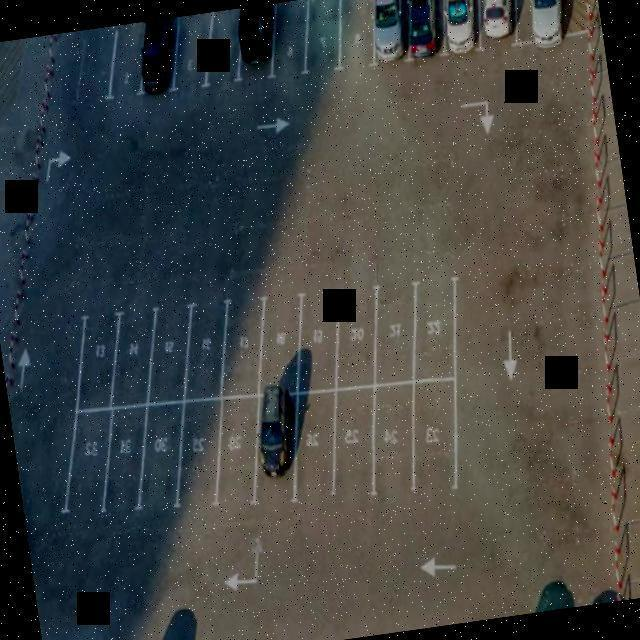space-empty: (407, 373, 460, 502), (291, 282, 343, 401), (407, 271, 459, 388), (60, 403, 115, 513), (134, 396, 186, 512), (217, 285, 267, 403), (106, 299, 158, 411), (73, 304, 125, 416), (100, 398, 150, 514), (371, 373, 417, 499), (371, 269, 418, 392), (172, 393, 222, 508), (329, 378, 377, 497), (291, 383, 338, 504), (212, 392, 260, 510), (333, 279, 381, 396), (142, 295, 190, 411), (257, 283, 304, 399), (179, 289, 226, 405), (264, 0, 309, 88), (200, 7, 246, 91), (168, 12, 214, 95), (102, 21, 146, 104), (300, 0, 344, 82), (234, 3, 274, 86), (336, 0, 378, 76)
space-occupied: (253, 389, 297, 504), (136, 17, 176, 100), (369, 0, 412, 73), (407, 0, 448, 69), (440, 0, 484, 62), (476, 0, 522, 56), (528, 0, 570, 50)
